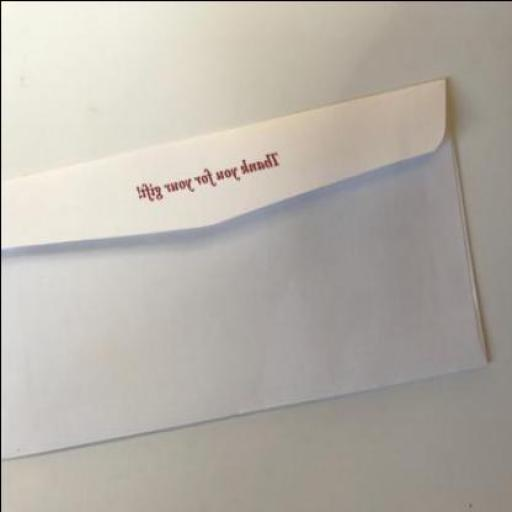paper: (0, 74, 487, 459)
